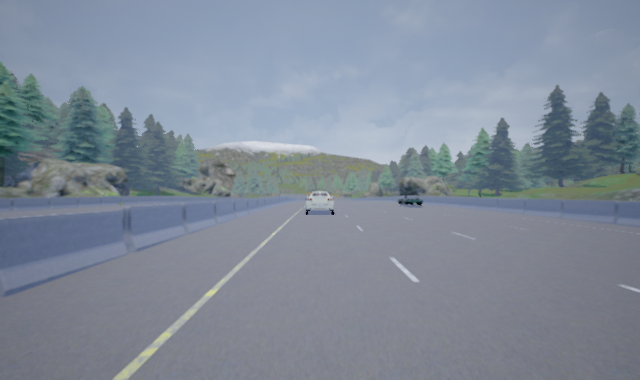vehicle: (304, 191, 335, 215), (398, 191, 422, 205)
